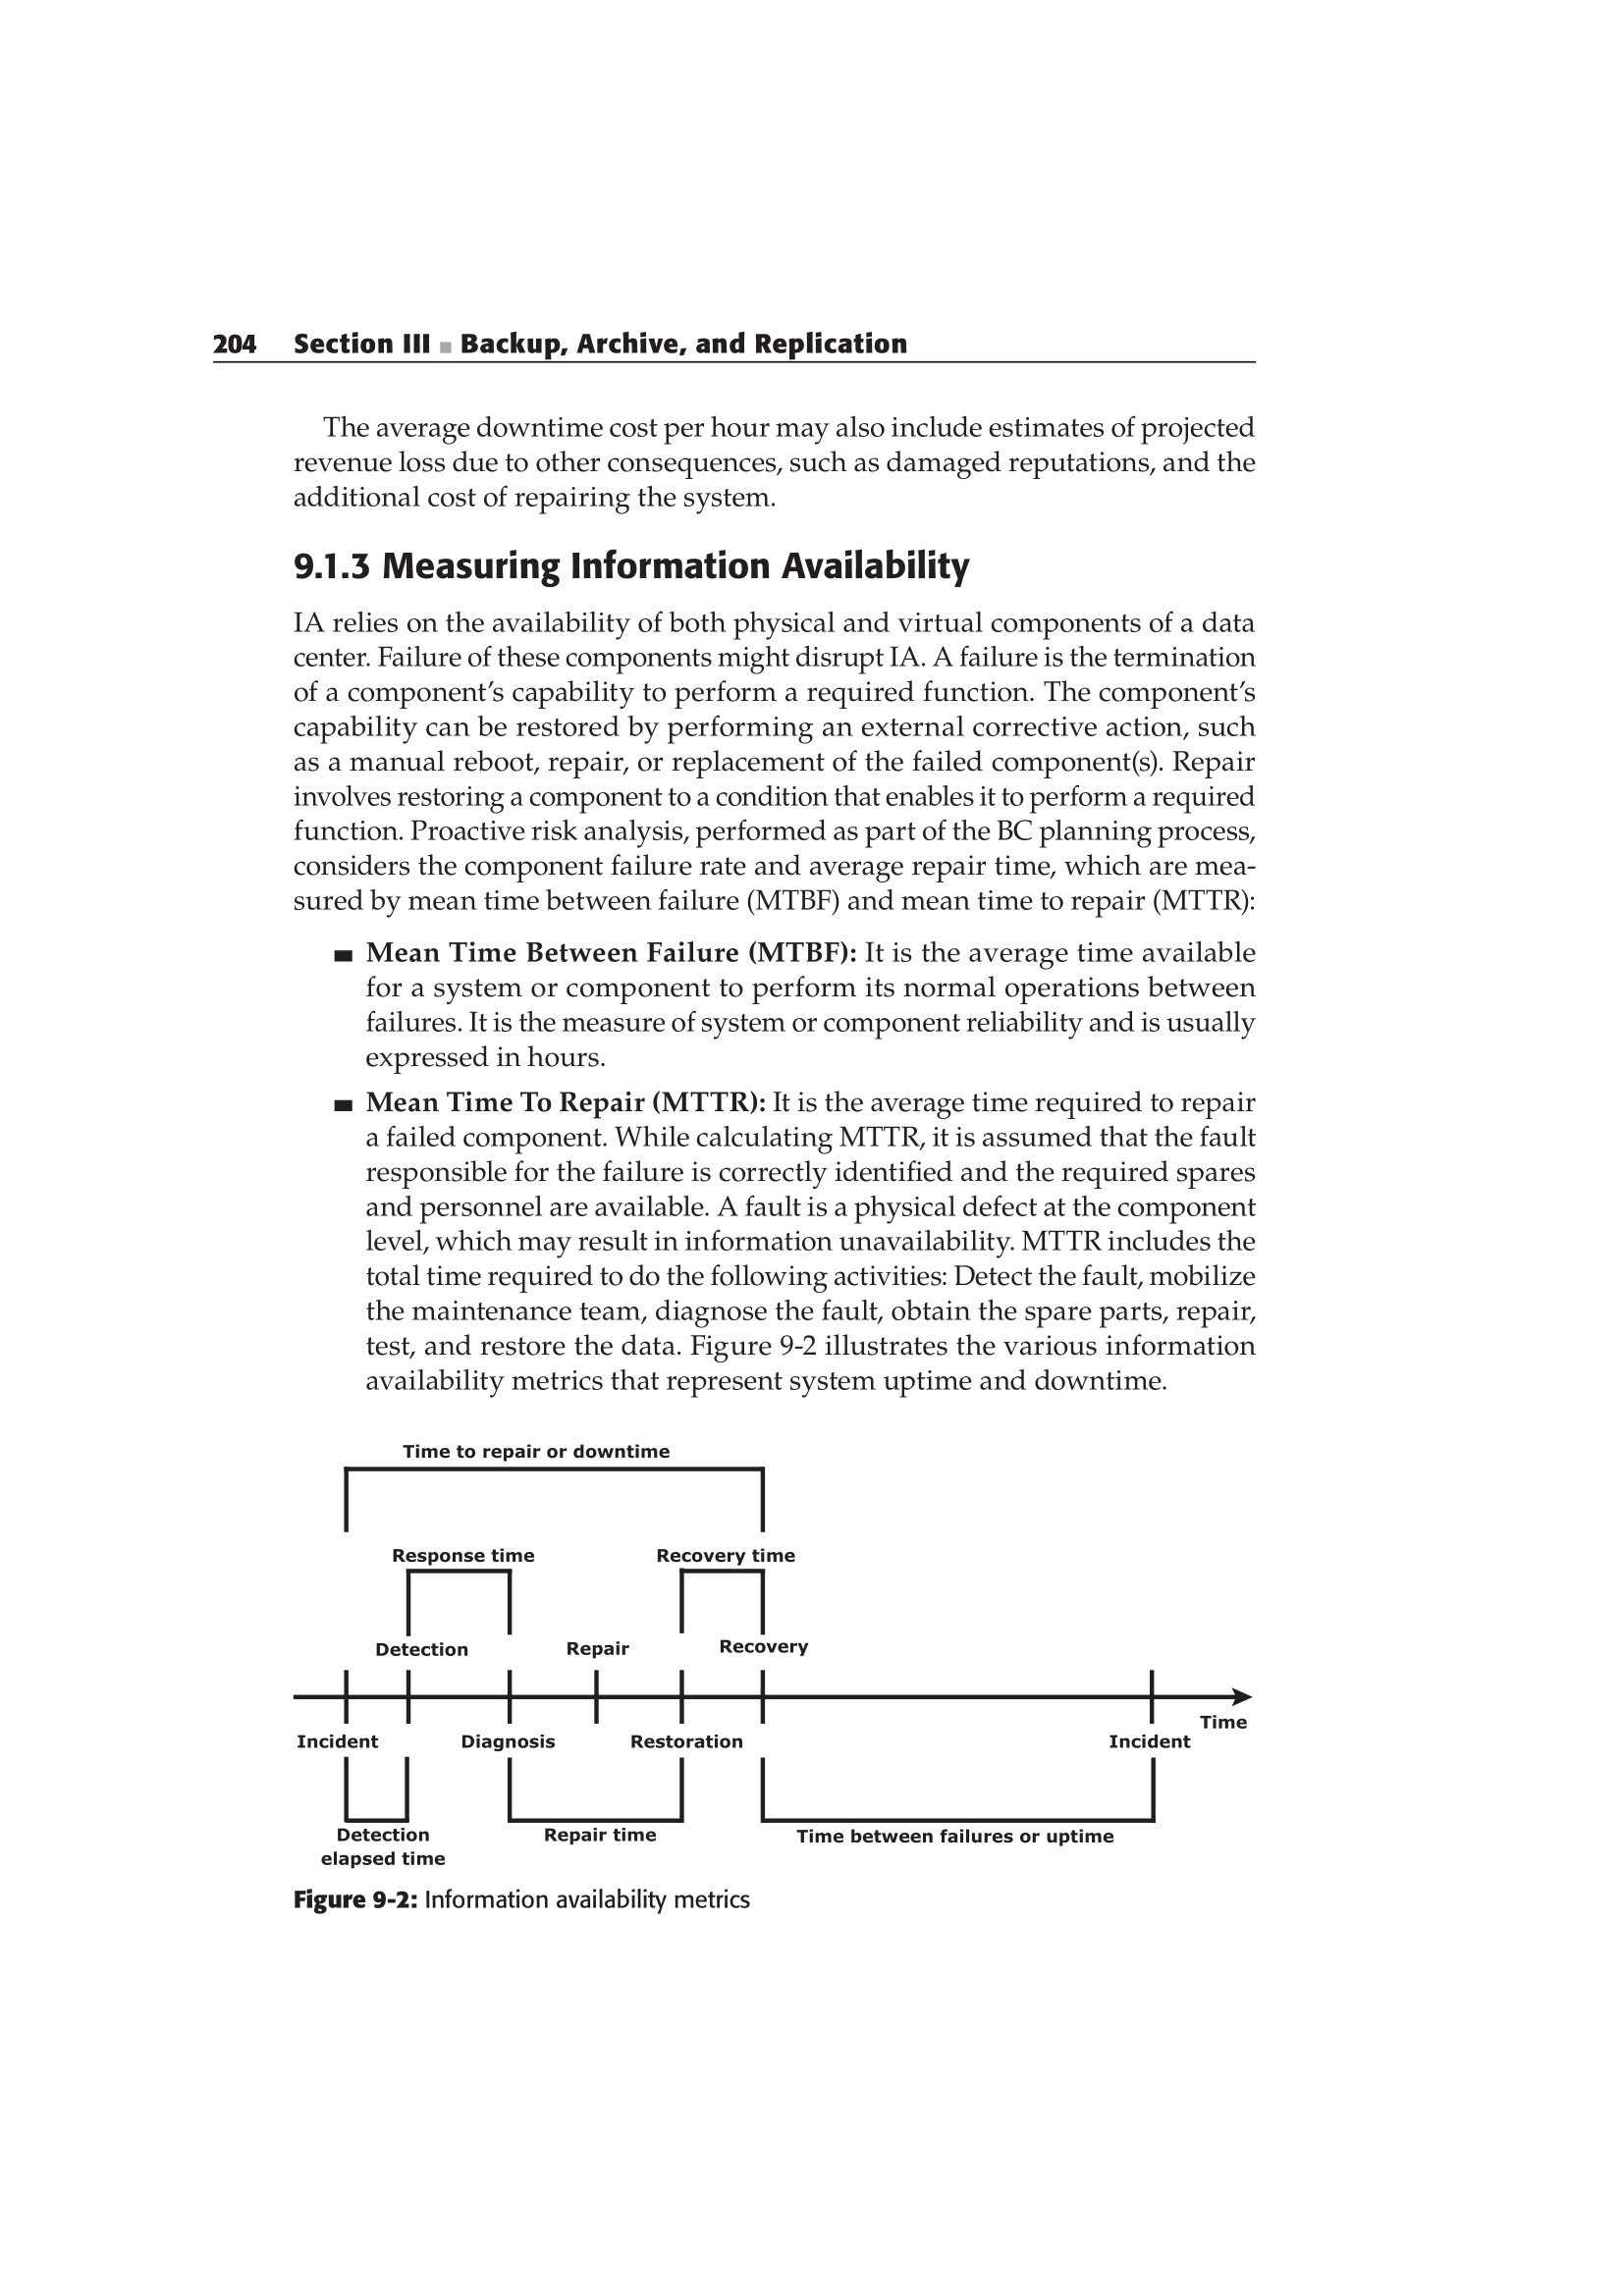Image: (170, 1411, 1361, 1871)
Paragraph: (190, 604, 1344, 927), (314, 1085, 1286, 1394), (274, 937, 1298, 1080), (228, 404, 1279, 518), (151, 284, 998, 393), (246, 532, 1133, 597), (246, 1875, 769, 1955)
